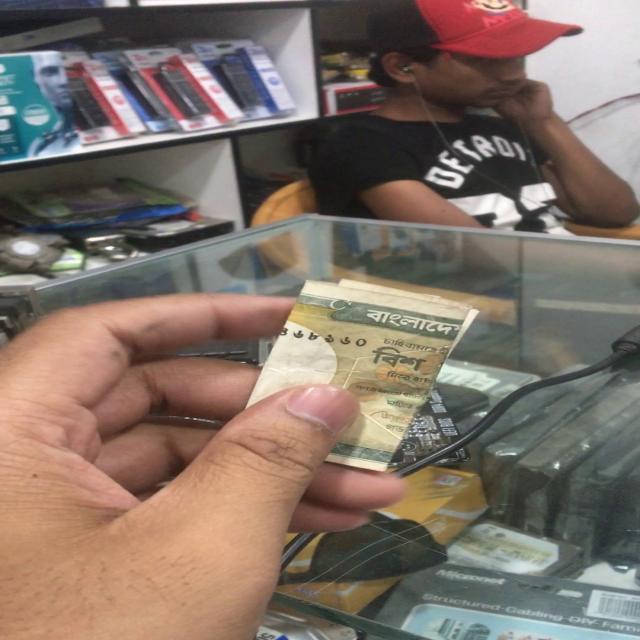Taka: (278, 292, 491, 468)
